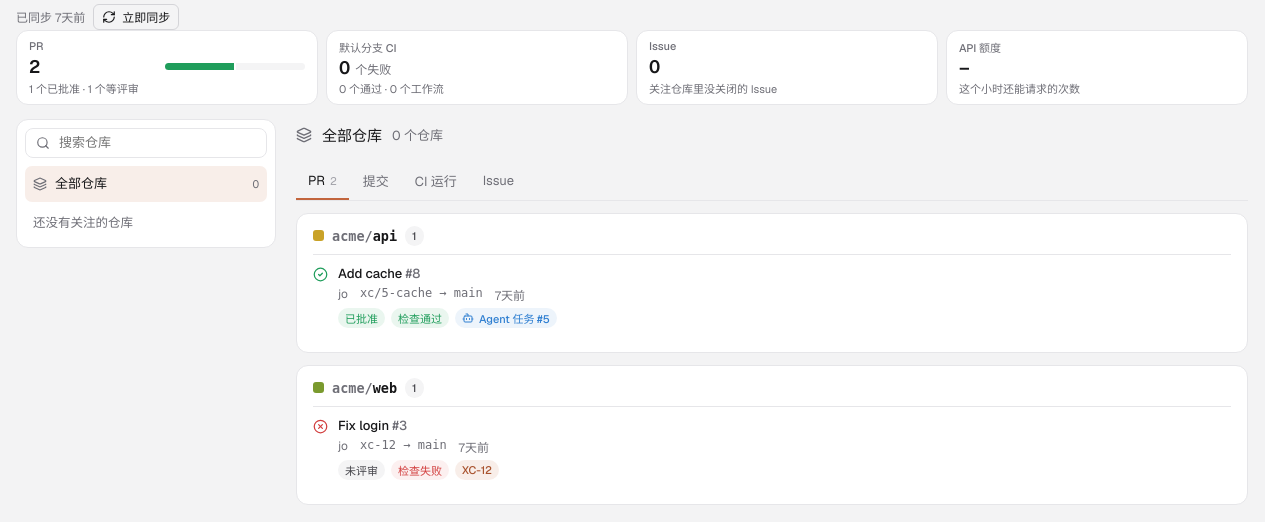
Test: GitHubPage › groups pull requests by repo with check badges and issue links
Expected: the text "检查失败" is shown, x1=391 y1=460 x2=449 y2=480
Expected: the text "已批准" is shown, x1=338 y1=308 x2=385 y2=328
What coordinates should you click on to do the following:
click the button "CI 运行"
I would click on:
 (436, 181)
Its box is x1=403 y1=163 x2=469 y2=200.
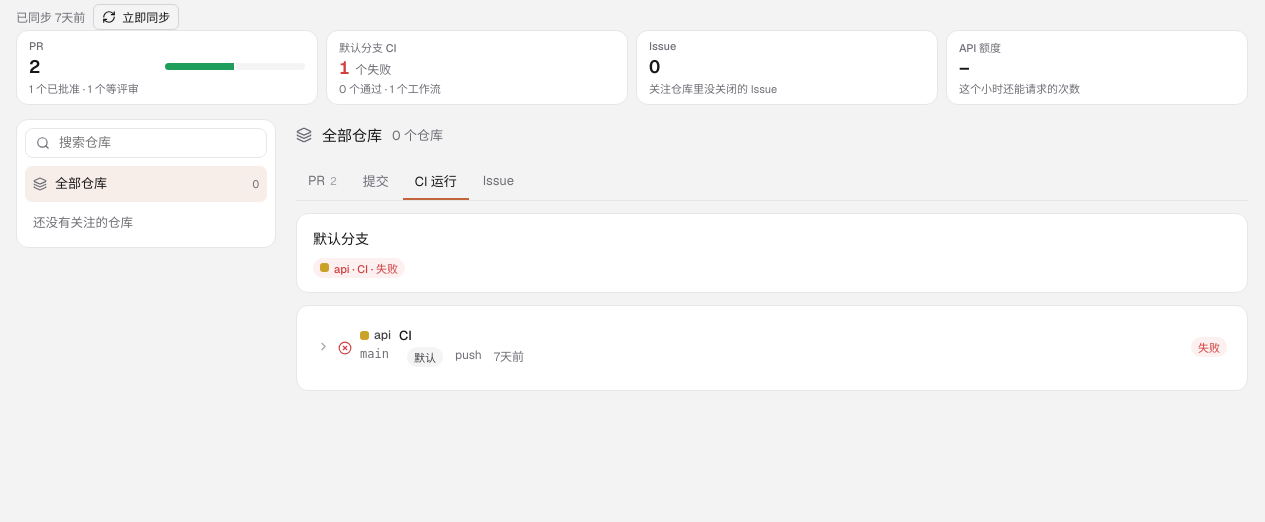
Result: the heading "默认分支" is shown at x1=313 y1=228 x2=369 y2=248
Result: the text "失败" is shown at x1=1191 y1=337 x2=1227 y2=357
